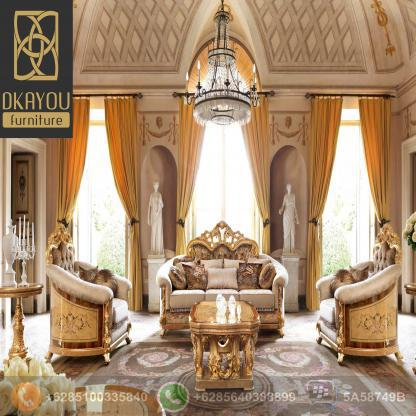bantal: (208, 269, 237, 290), (183, 263, 206, 289), (238, 264, 258, 290), (172, 267, 185, 288), (262, 266, 273, 289)
kursi: (320, 228, 410, 370)
meja: (189, 296, 261, 398)
sova: (162, 222, 290, 339), (46, 222, 135, 365)
